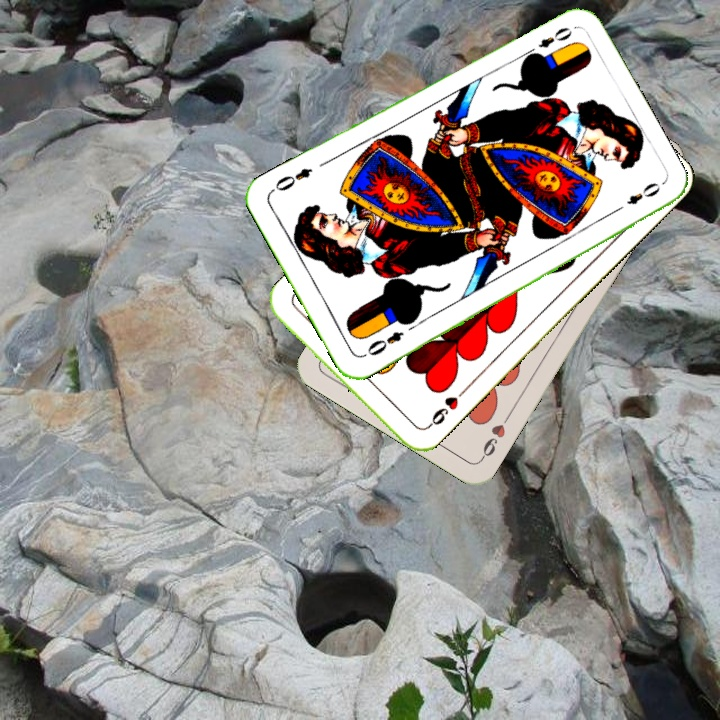EO: (522, 23, 575, 59), (358, 327, 407, 360)
H9: (422, 386, 469, 432), (476, 410, 514, 463)
